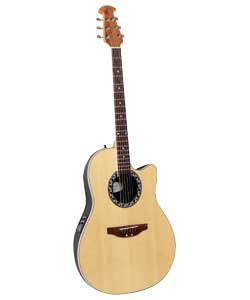guitar: (72, 5, 177, 296)
